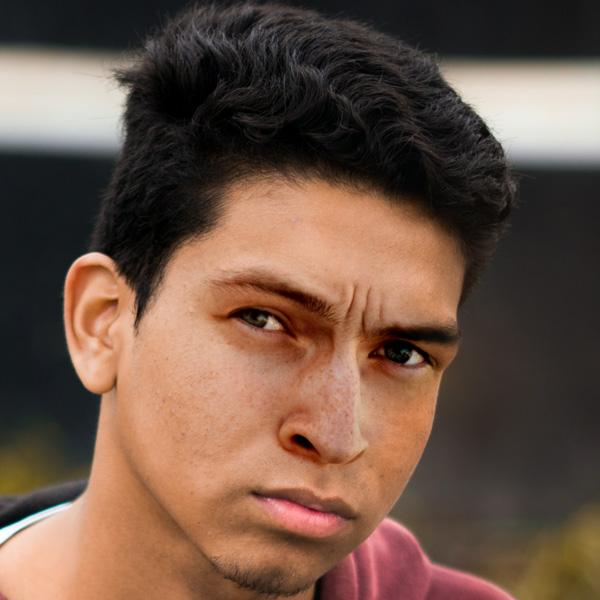Eyes: (214, 282, 305, 361), (356, 320, 441, 381)
